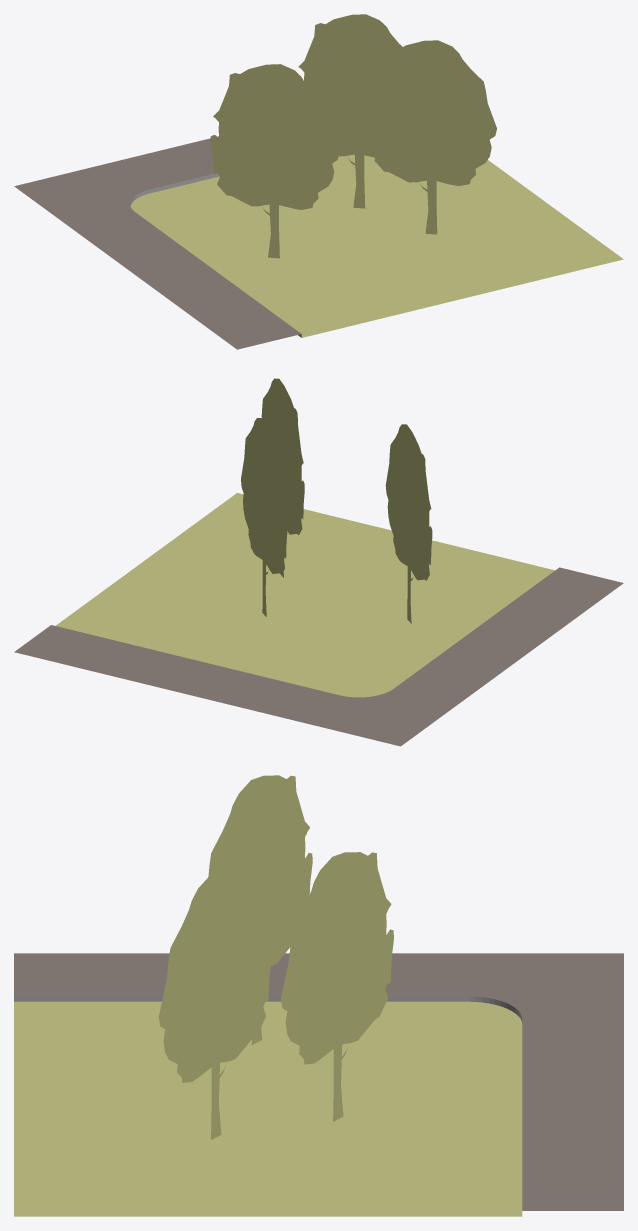
The model's file is rrwr.obj.
3 views of the same model, one above another, from view 1: azimuth 30°, elevation 25°; view 2: azimuth 150°, elevation 25°; view 3: azimuth 270°, elevation 25° (orthographic). The views are drawn at different scales.
Visible parts, largest first — view 1: rrwr; view 2: rrwr; view 3: rrwr.
Boxes of the visible parts, <box> form: rrwr: <box>14,14,623,349</box>; rrwr: <box>14,378,623,746</box>; rrwr: <box>14,775,623,1216</box>.
Size of the model in its own units: 30 by 14.41 by 30.
